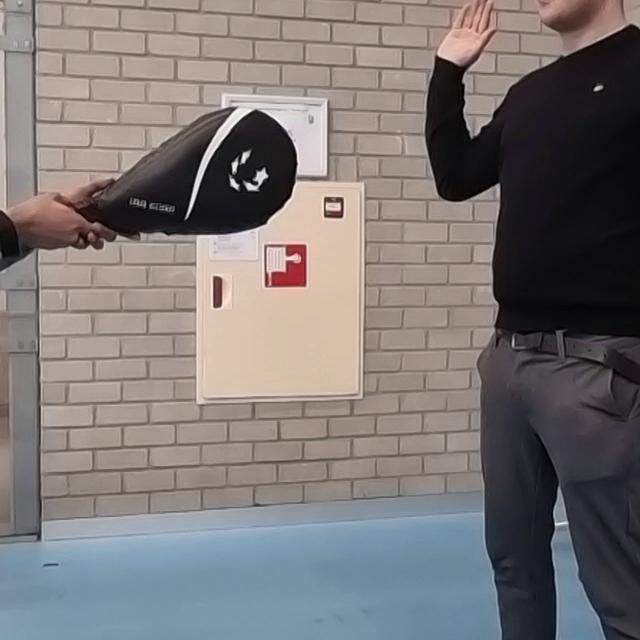paddle: (74, 105, 299, 238)
